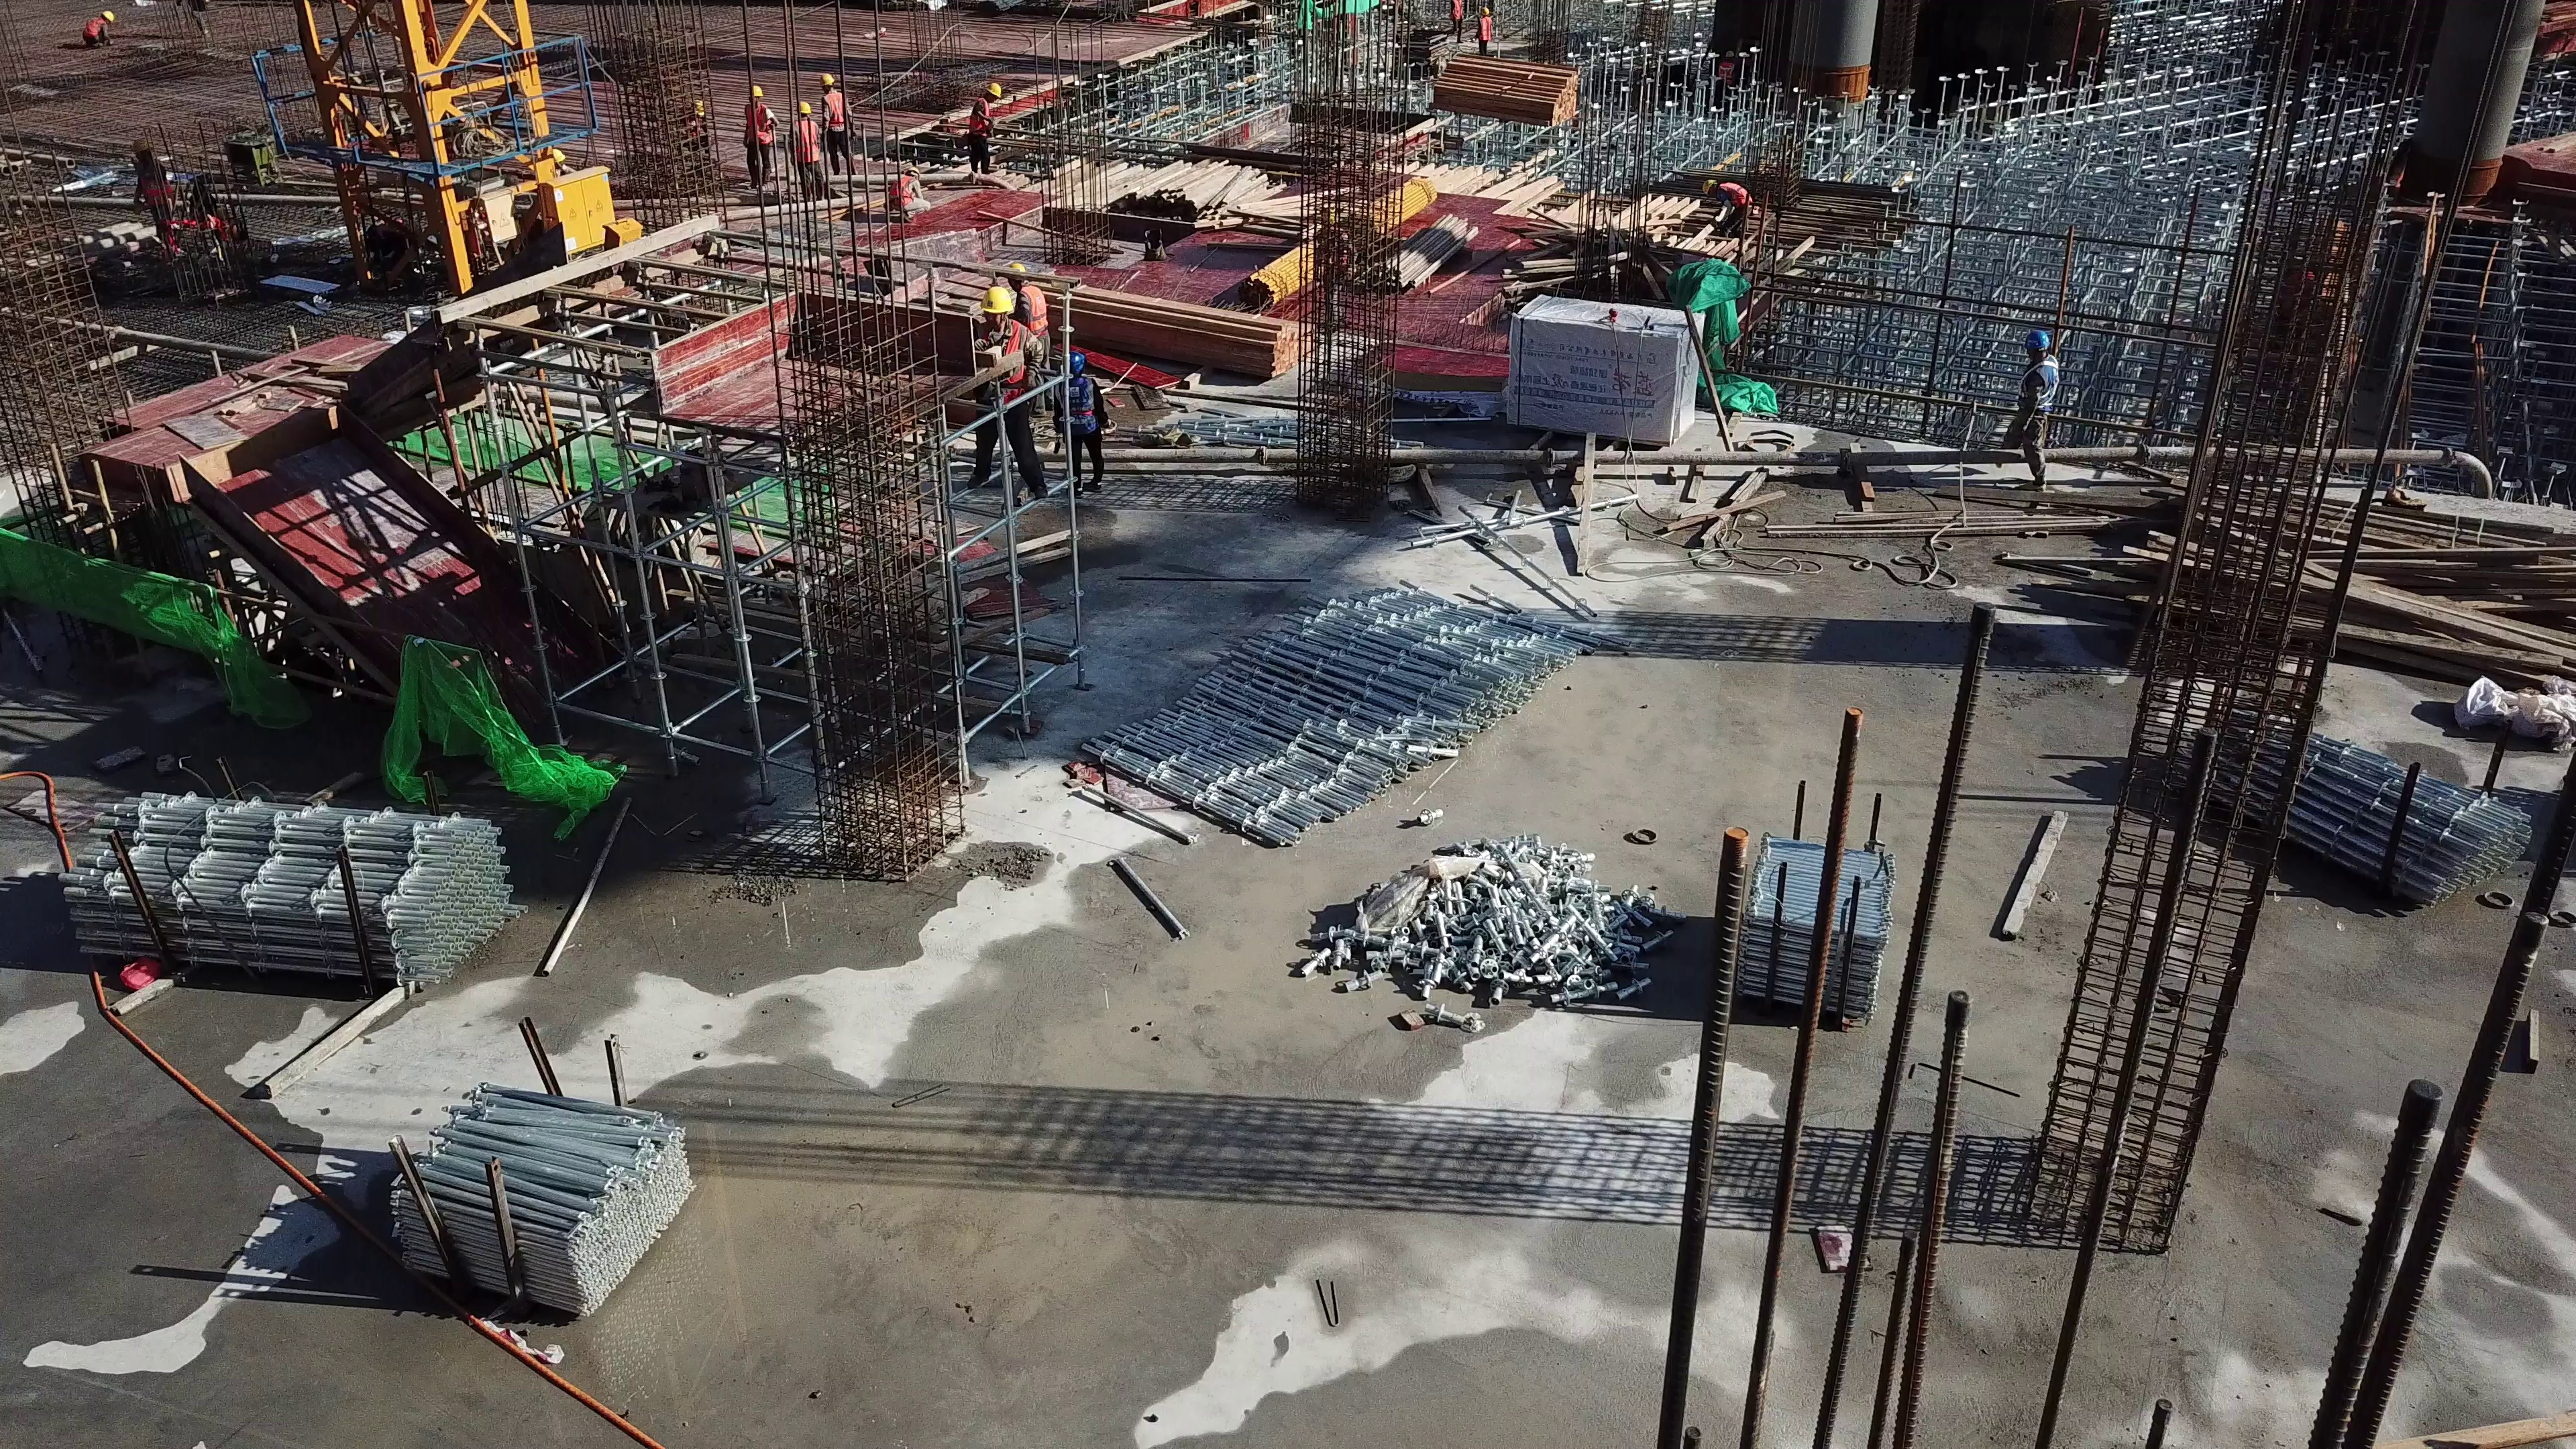board: (1366, 343, 1518, 400)
ebox: (541, 166, 616, 254), (476, 186, 525, 260)
helmet: (978, 286, 1016, 316), (2023, 325, 2053, 356), (1062, 350, 1083, 372), (1012, 261, 1026, 276), (1703, 176, 1715, 195), (822, 72, 835, 87), (988, 83, 1002, 99), (905, 165, 919, 176), (555, 150, 566, 166), (102, 11, 113, 23), (798, 101, 806, 111), (755, 85, 763, 98), (1483, 7, 1489, 16)
person: (968, 286, 1047, 500), (2002, 329, 2061, 495), (1053, 352, 1108, 496), (1010, 262, 1051, 417), (1316, 209, 1354, 338), (131, 138, 174, 252), (820, 74, 857, 177), (743, 84, 779, 189), (791, 103, 825, 205), (969, 83, 1002, 176), (1703, 178, 1750, 231), (887, 168, 930, 221), (682, 99, 714, 156), (83, 10, 117, 48), (1472, 7, 1493, 54), (1440, 1, 1465, 40), (1715, 51, 1736, 93), (553, 148, 578, 174)
scaffold: (1075, 594, 1591, 841), (64, 790, 527, 975), (390, 1081, 702, 1318), (2201, 699, 2509, 924), (1742, 832, 1884, 1017)
vest: (977, 321, 1023, 402), (1058, 374, 1095, 439), (2019, 360, 2055, 417), (139, 167, 170, 211), (1022, 285, 1046, 338), (794, 121, 819, 164), (745, 103, 769, 144), (971, 96, 989, 136), (1721, 181, 1747, 207), (826, 92, 844, 126), (889, 176, 908, 207), (1477, 16, 1492, 41), (85, 16, 101, 35), (1720, 61, 1734, 80), (1453, 1, 1463, 21)
wood: (1061, 282, 1303, 374), (1434, 54, 1577, 121)
